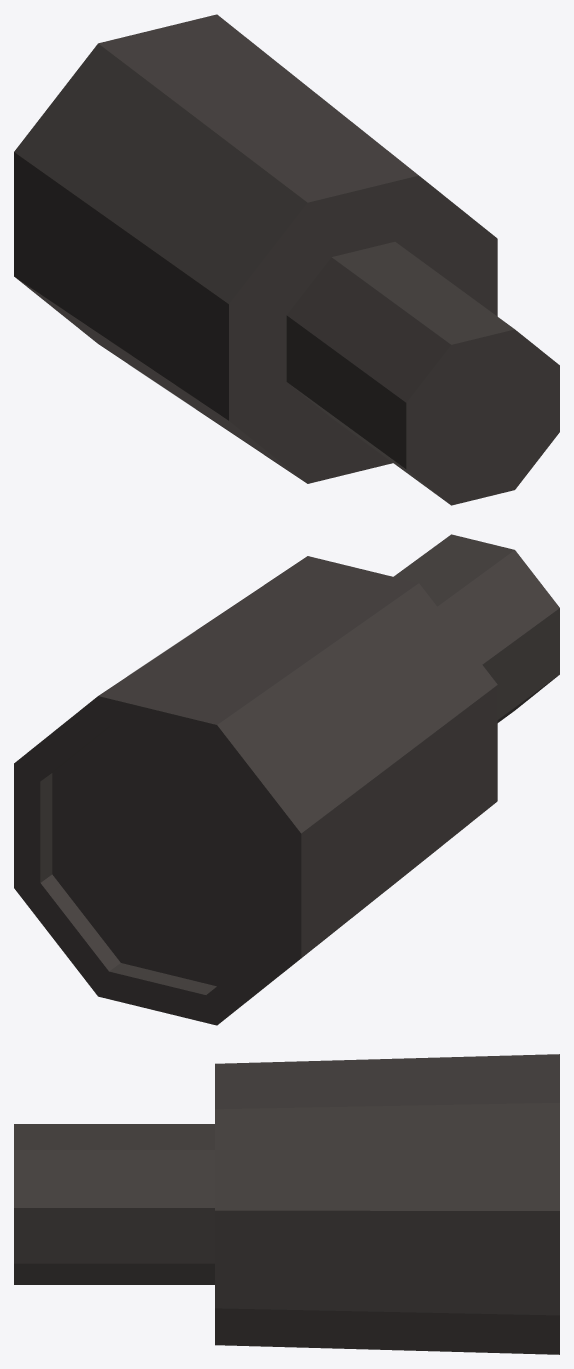
File: AssaultRifle6_03_4.fbx
3 renders of one model, top to bottom at view 1: azimuth 30°, elevation 25°; view 2: azimuth 150°, elevation 25°; view 3: azimuth 270°, elevation 25°, orthographic. The views are drawn at different scales.
Visible parts, largest first — view 1: AssaultRifle6_03_4; view 2: AssaultRifle6_03_4; view 3: AssaultRifle6_03_4.
Part boxes in pixels (x1,y1,x2,y2): AssaultRifle6_03_4: (14,14,559,505); AssaultRifle6_03_4: (14,534,559,1025); AssaultRifle6_03_4: (14,1054,559,1354).
Size of the model in its own units: 0.0117 by 0.0117 by 0.0229.
